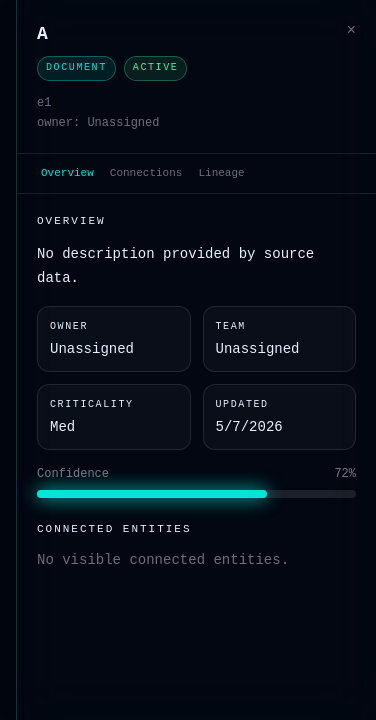
Test case: inspector metadata › inspector_lineage_tab_renders_traversal
Click the button "Lineage" at (222, 173), box [190,154,253,193]
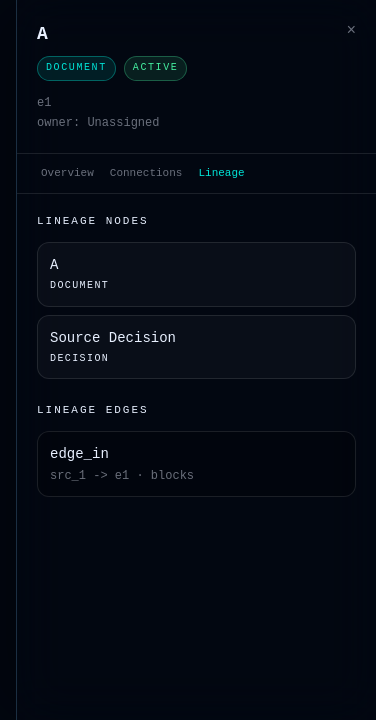
Expected: the text "Source Decision" is shown, [50,330,176,346]
Expected: the text "edge_in" is shown, [50,446,109,462]
